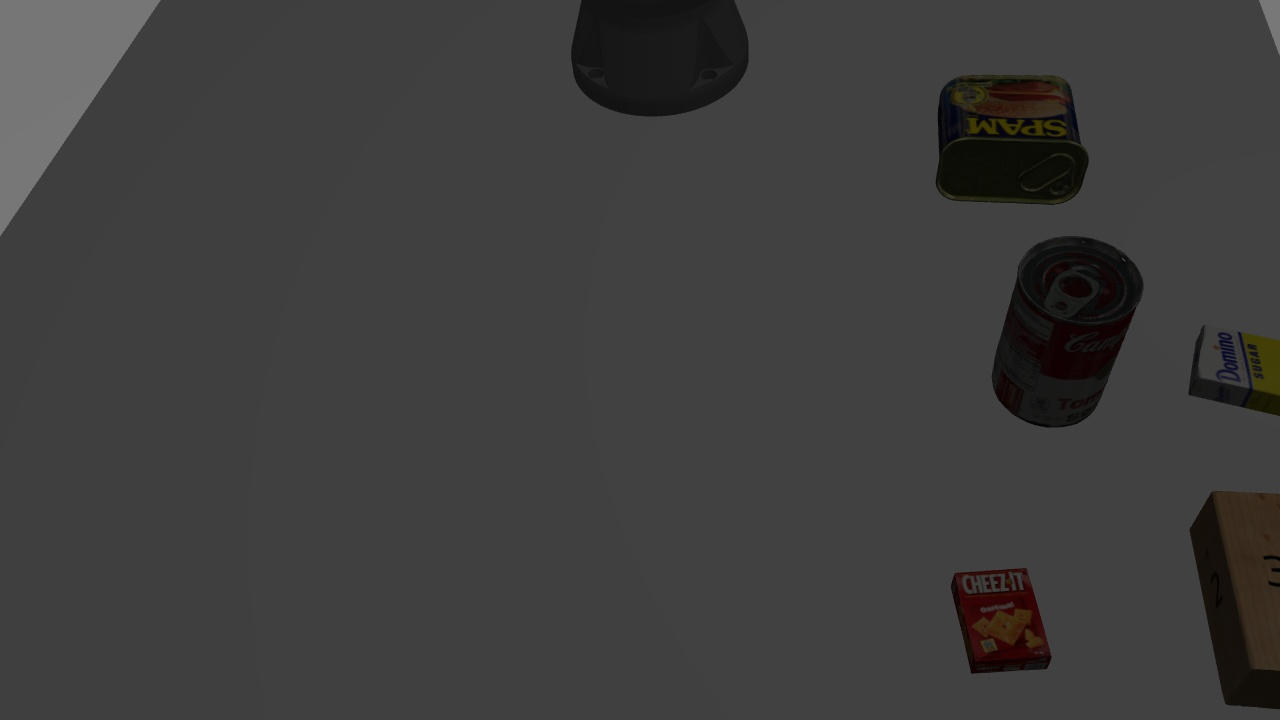cracker_box: (949, 565, 1058, 675)
jenga: (1183, 316, 1275, 414)
potted_meat_can: (933, 65, 1088, 202)
sugar_box: (1190, 318, 1276, 423)
tomato_soup_can: (983, 233, 1149, 431)
wood_block: (1186, 480, 1276, 709)
